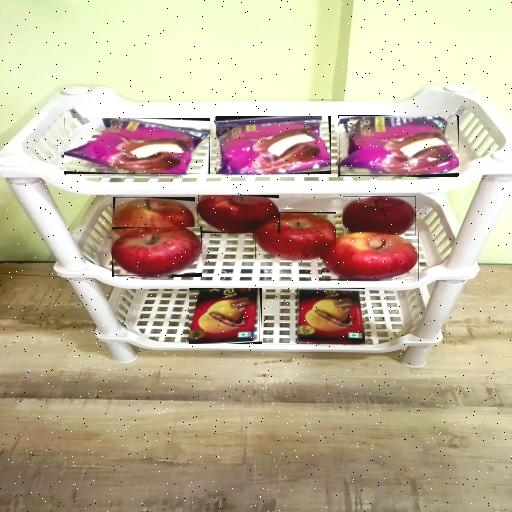Apple: (322, 231, 419, 280), (112, 227, 202, 276), (255, 212, 336, 259), (198, 195, 278, 233), (114, 198, 194, 234), (343, 196, 416, 235)
Choco Fills: (190, 288, 259, 344), (297, 288, 363, 344)
Choco Pie: (64, 118, 210, 174), (339, 116, 459, 176), (216, 116, 331, 174)
